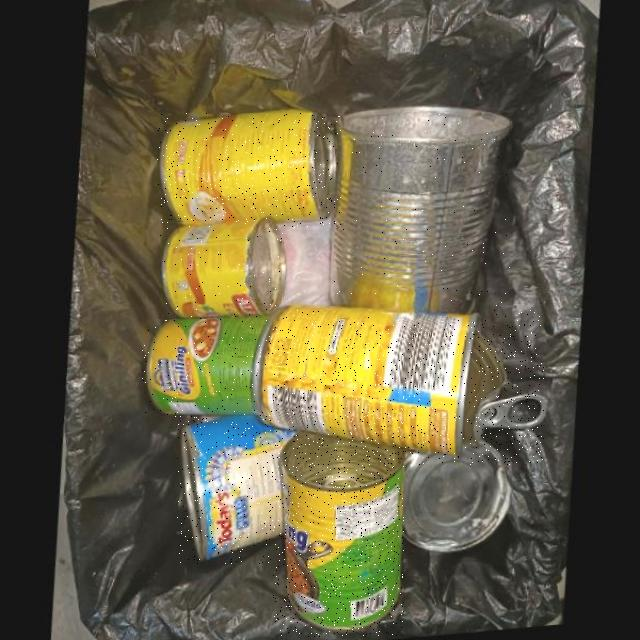metal: (248, 309, 545, 465), (326, 111, 511, 322), (273, 435, 404, 637), (157, 113, 341, 228), (177, 420, 293, 564), (143, 319, 268, 419), (396, 448, 507, 560), (159, 222, 283, 321)
